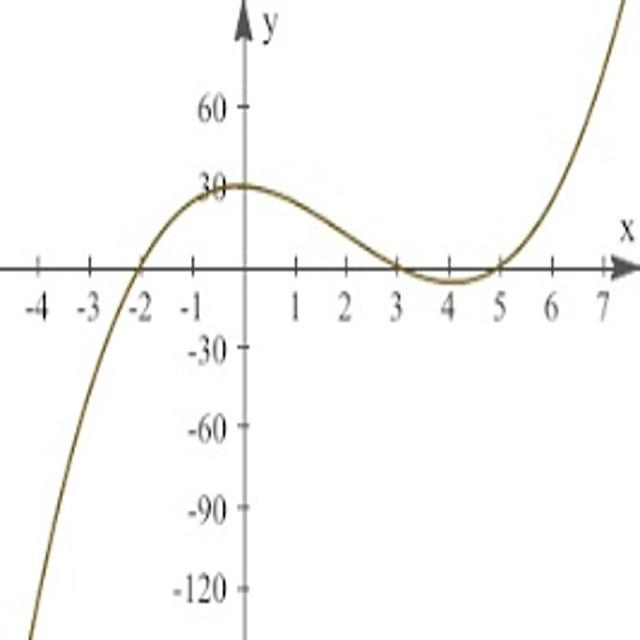axis: (1, 252, 640, 274), (235, 0, 252, 640)
line: (22, 0, 631, 639)
